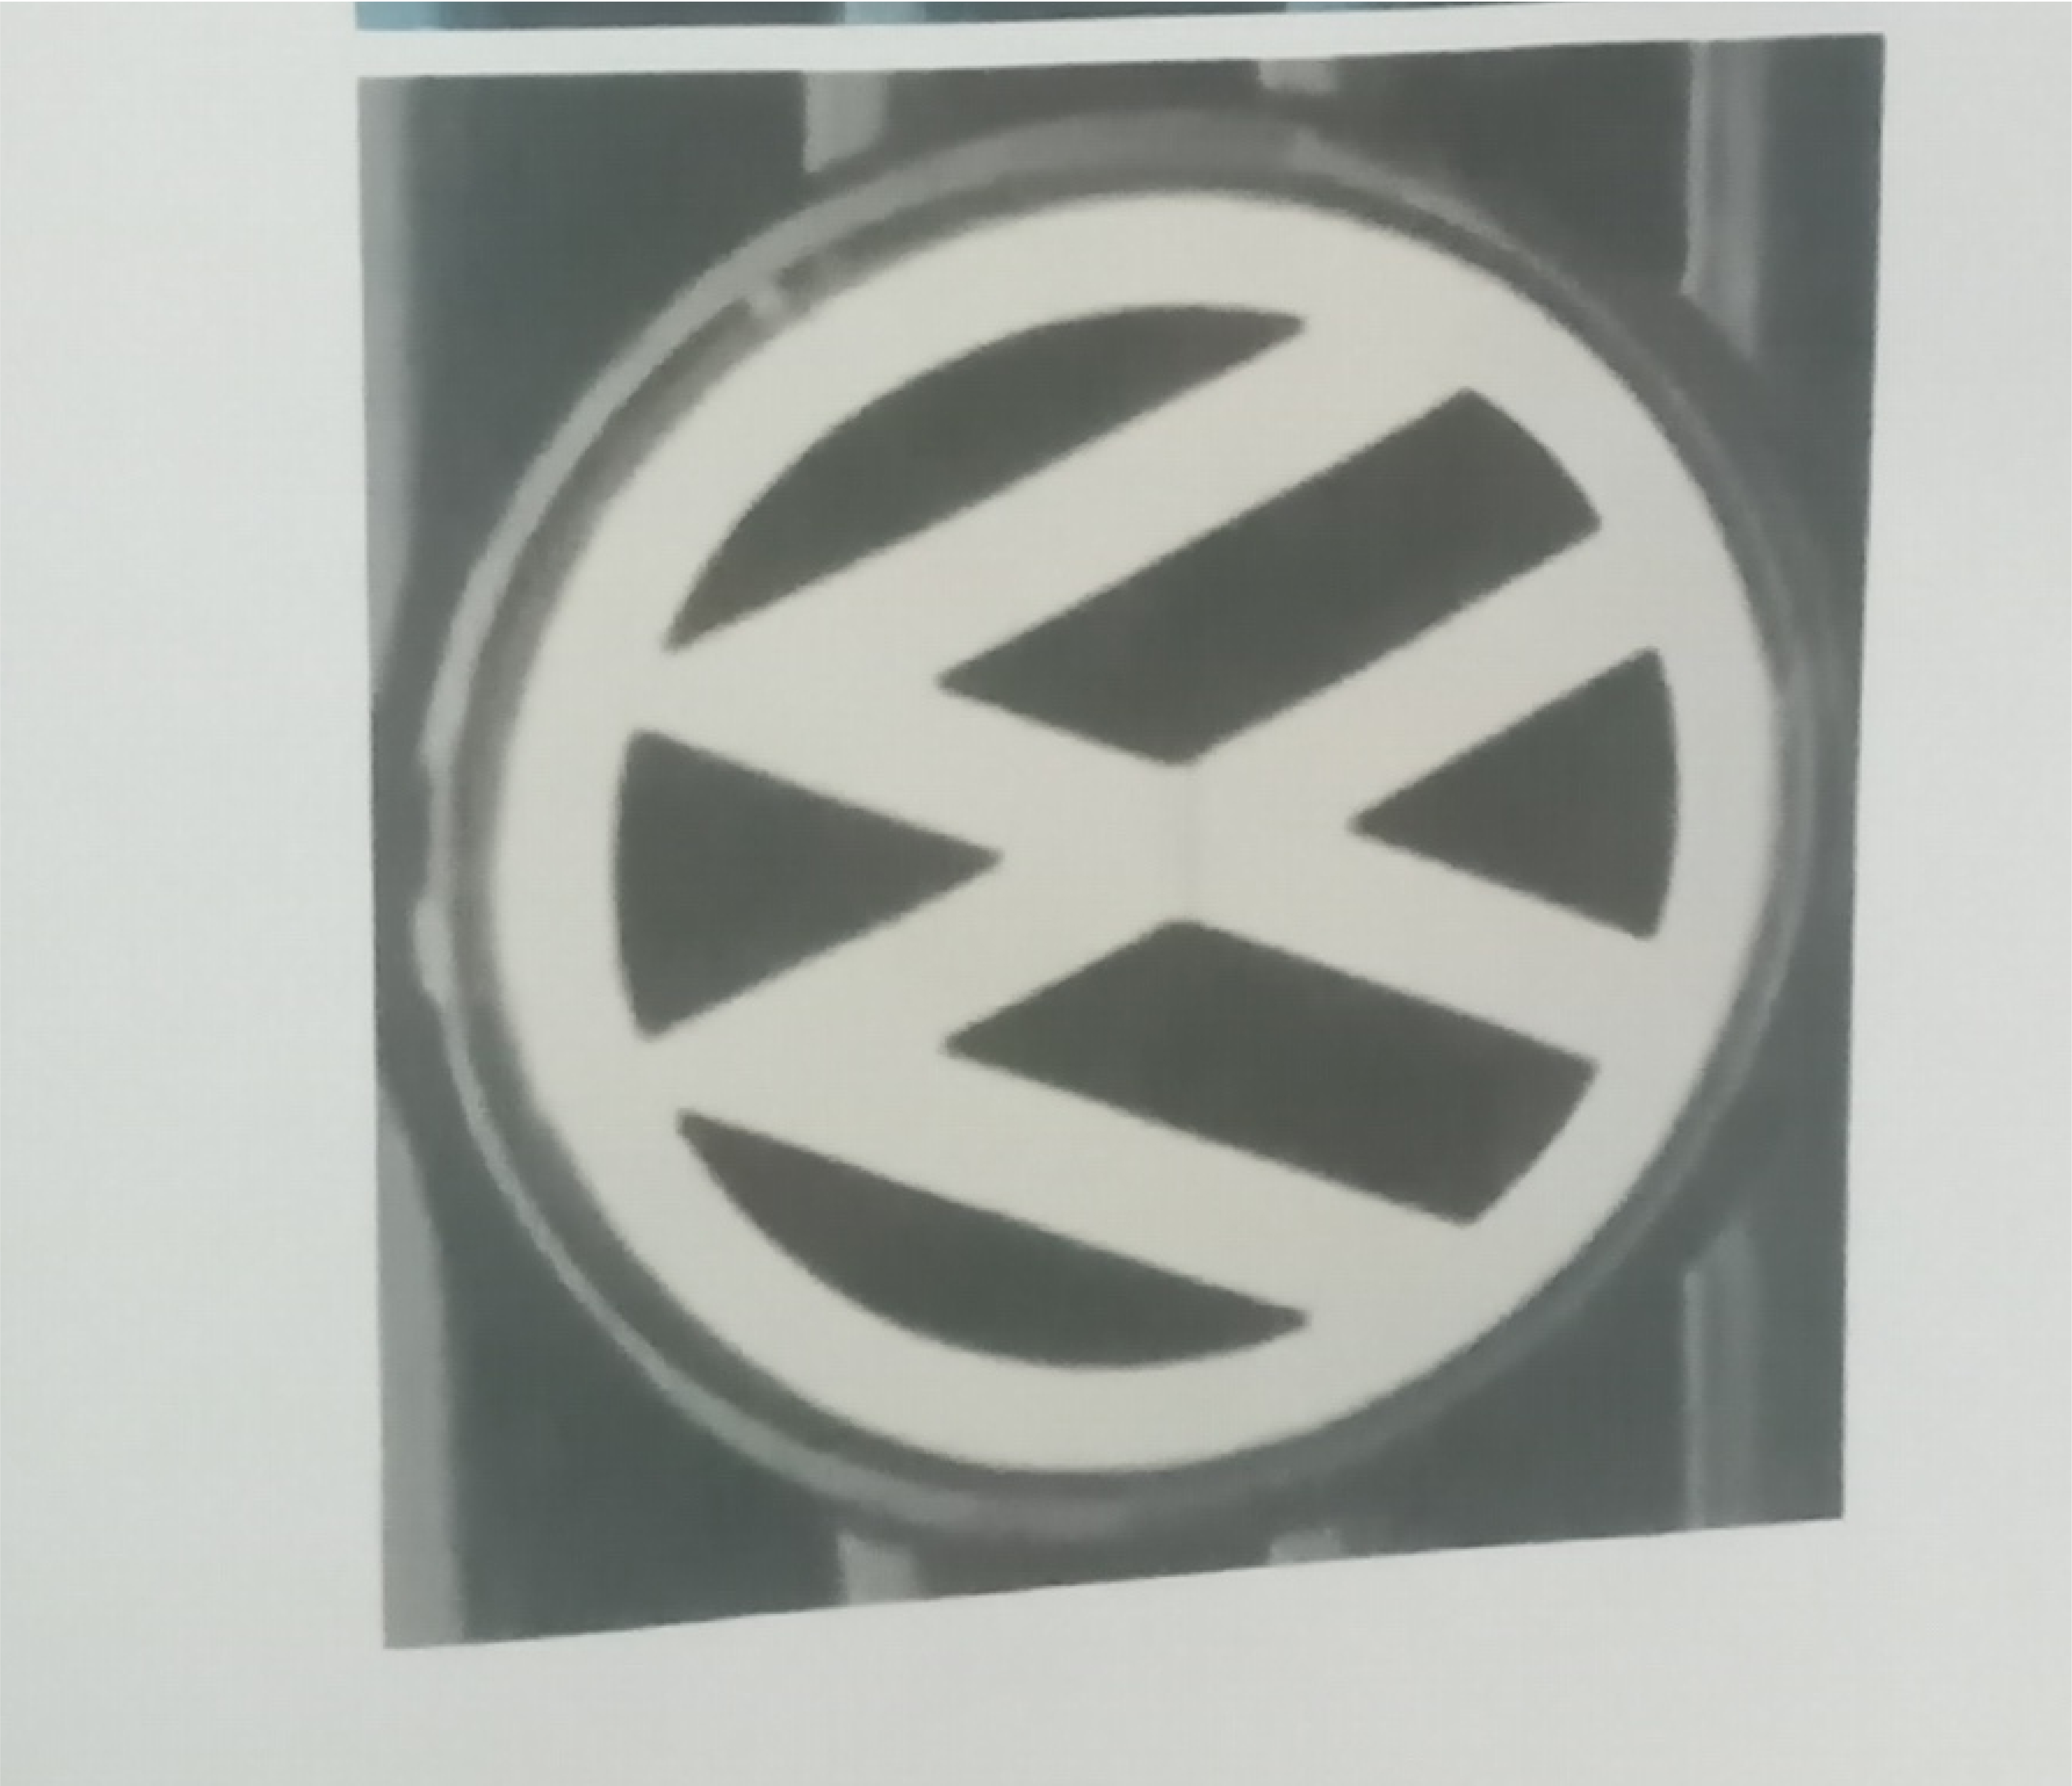Volkswagen: (366, 95, 1852, 1536)
